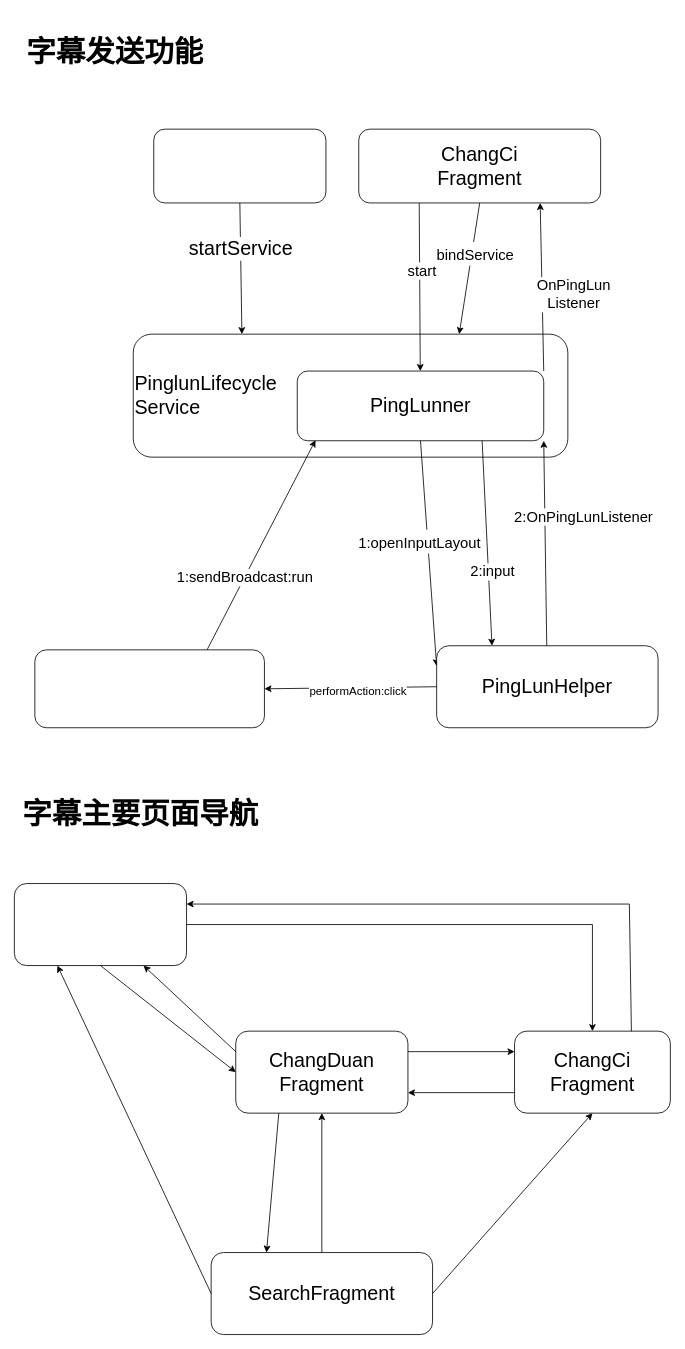
The diagram is 685 pixels wide and 1349 high, and some of its shapes have lost their labels. Each missing label, with the centre of its shape:
DouYin AccessibilityService: the point at 149,688
SettingsGuide Fragment: the point at 100,924
ZimuMain Fragment: the point at 239,165
